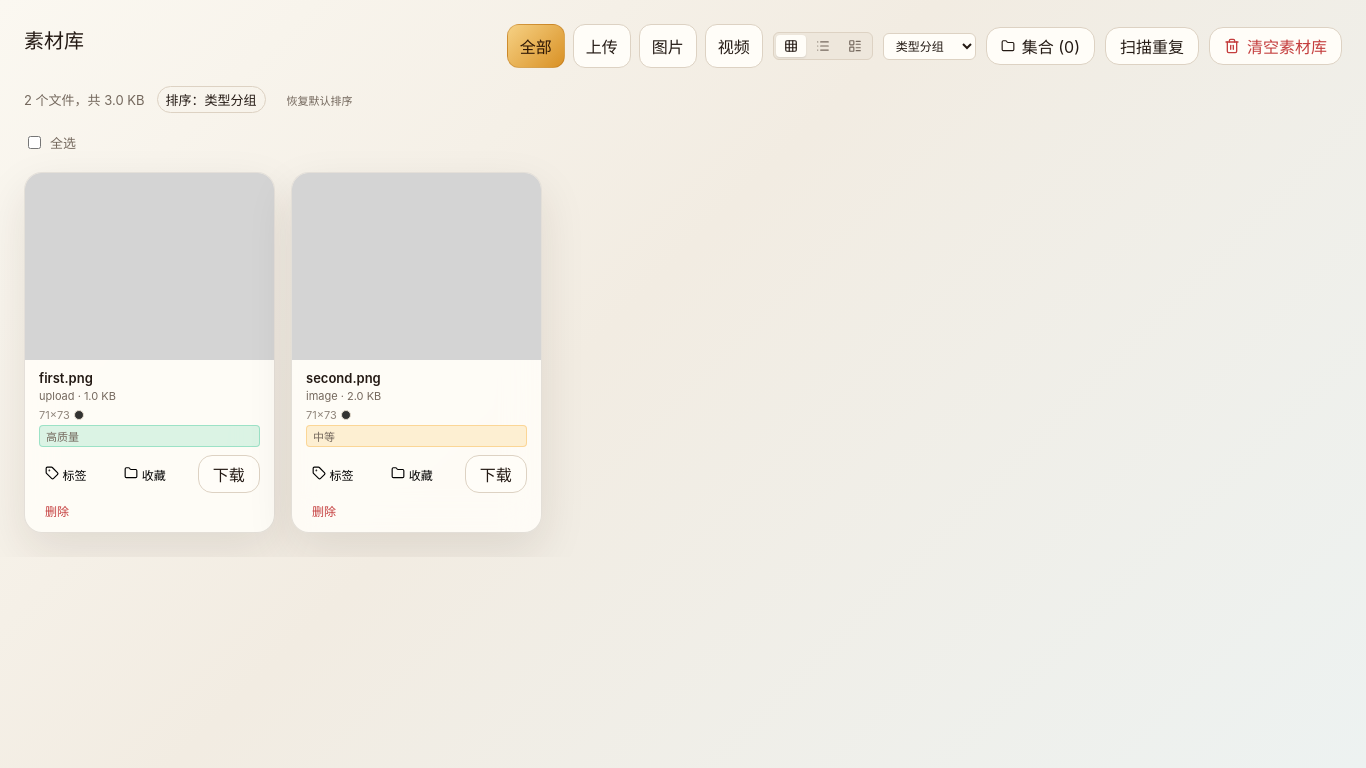
Scenario: AssetWorkspace › restores the default asset sort and persists the reset
Expected: the text "排序：类型分组" is shown, [156, 86, 266, 113]
Click the button "恢复默认排序" at (320, 100), box [278, 88, 362, 110]
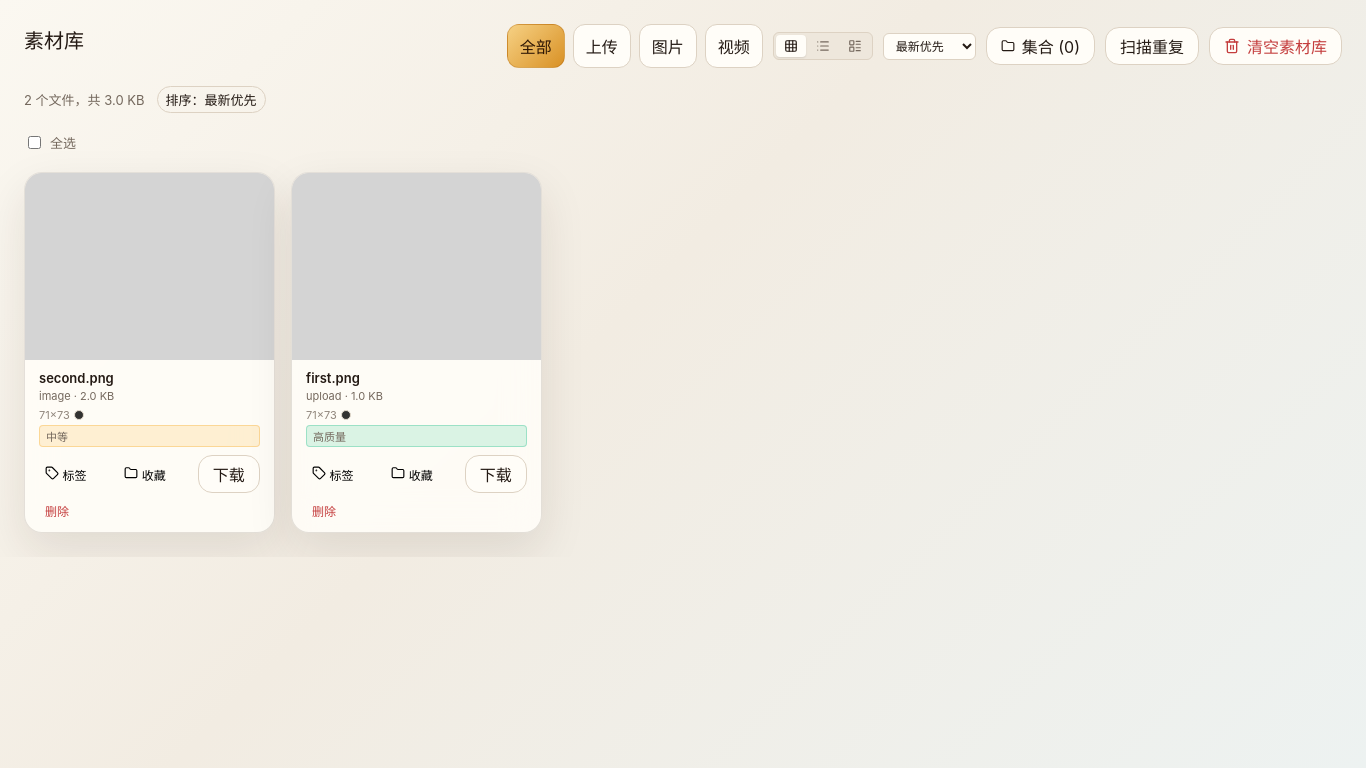
Expected: the text "排序：最新优先" is shown, [156, 86, 266, 113]
Expected: the button "恢复默认排序" is gone
